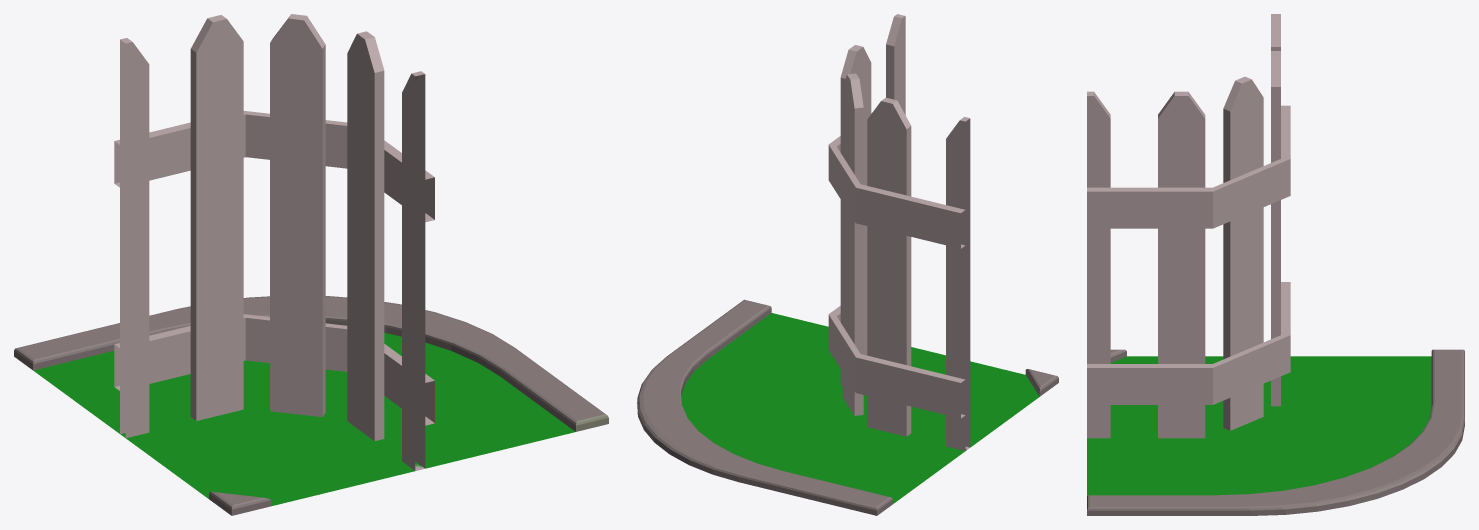
File: Fence90d.fbx
The picture shows the model from 3 angles, left to right: view 1: azimuth 30°, elevation 25°; view 2: azimuth 150°, elevation 25°; view 3: azimuth 270°, elevation 25°; orthographic projection. The views are drawn at different scales.
Visible parts, largest first — view 1: Fence; view 2: Fence; view 3: Fence.
Part boxes in pixels (bbox=[...]): Fence: bbox=[14, 14, 608, 515]; Fence: bbox=[637, 14, 1058, 515]; Fence: bbox=[1087, 14, 1464, 515].
Size of the model in its own units: 100 by 100 by 100.
Materials: 1 (1 with a texture image).
